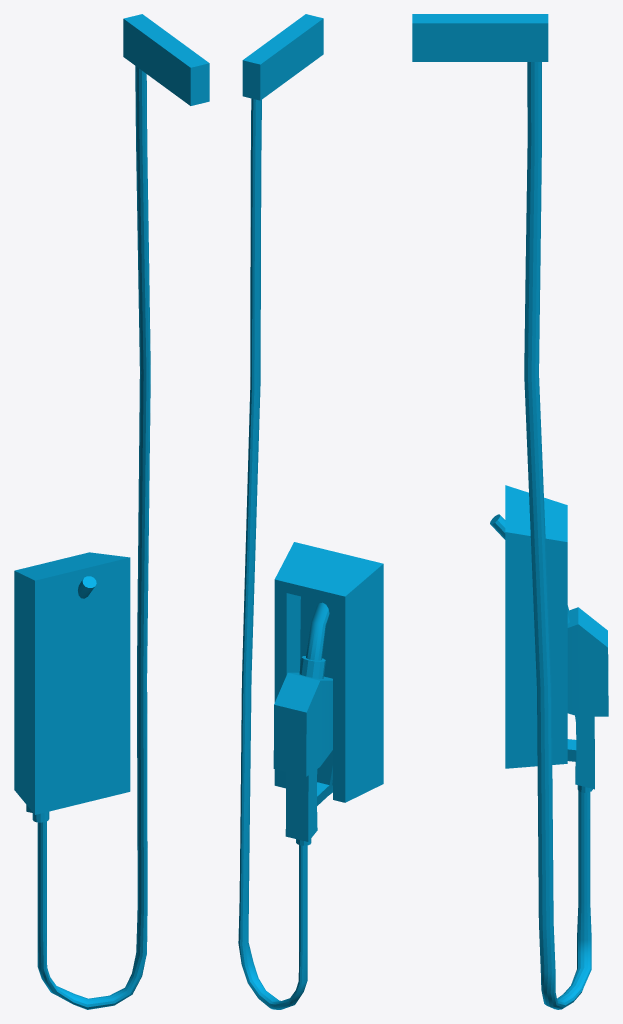
The model's file is Fuel_Nozzles_01.fbx.
3 views of the same model, side by side, from view 1: azimuth 30°, elevation 25°; view 2: azimuth 150°, elevation 25°; view 3: azimuth 270°, elevation 25° (orthographic). The views are drawn at different scales.
Parts seen in each view (by area): view 1: Fuel_Nozzles_01; view 2: Fuel_Nozzles_01; view 3: Fuel_Nozzles_01.
Boxes of the visible parts, x1=… form: Fuel_Nozzles_01: x1=14, y1=14, x2=209, y2=1009; Fuel_Nozzles_01: x1=238, y1=14, x2=383, y2=1009; Fuel_Nozzles_01: x1=412, y1=14, x2=608, y2=1009.
Bounding box in the file's own units: 28.75 × 207 × 36.63.
